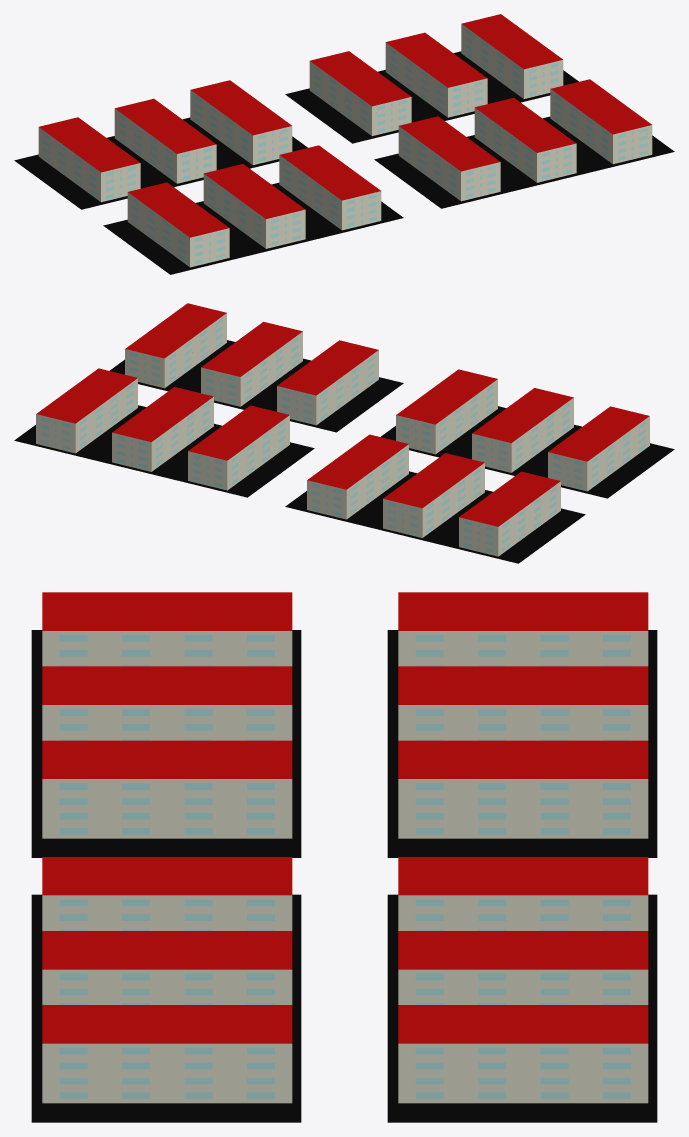
3 views of the same model, one above another, from view 1: azimuth 30°, elevation 25°; view 2: azimuth 150°, elevation 25°; view 3: azimuth 270°, elevation 25° (orthographic). The views are drawn at different scales.
Size of the model in its own units: 216 by 12.19 by 116.
